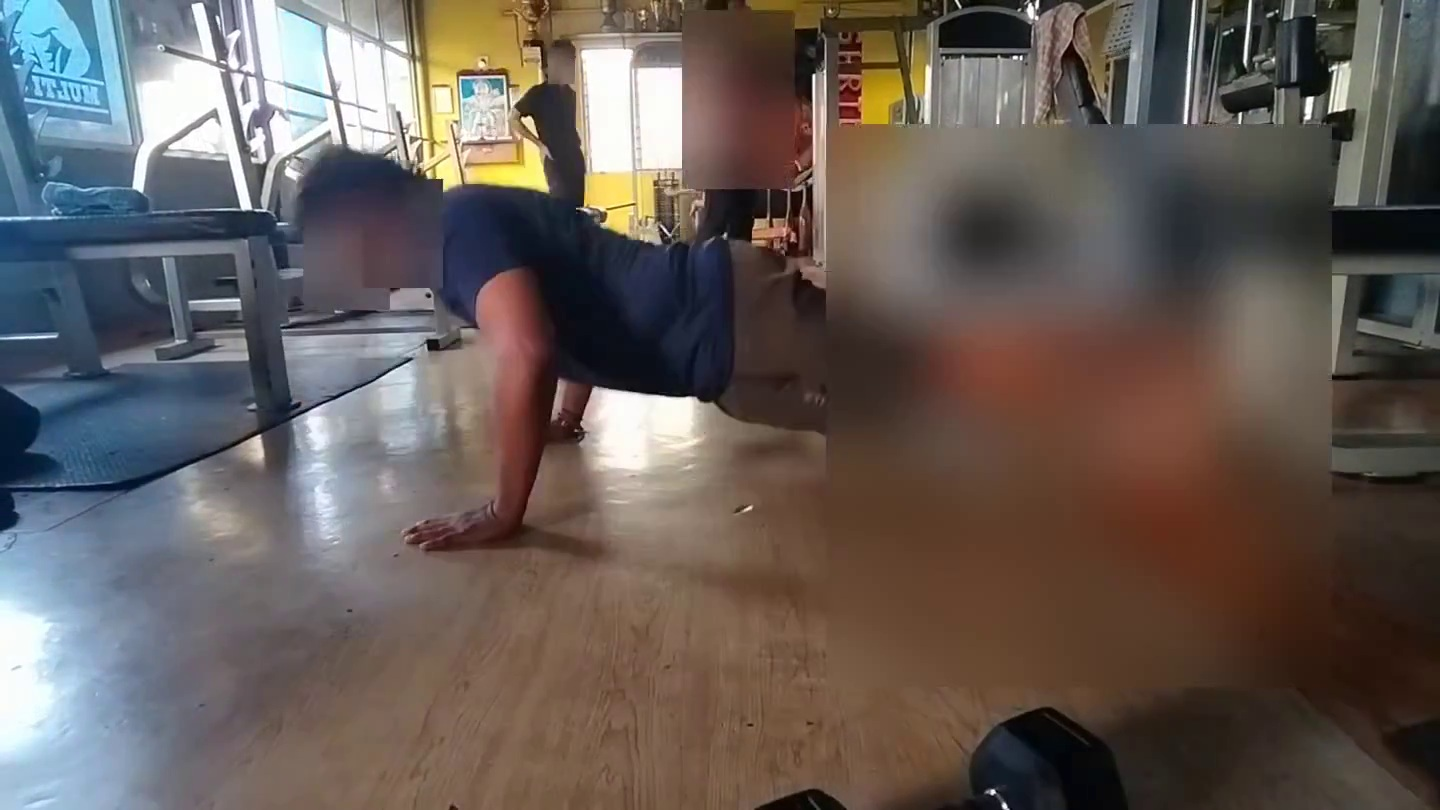push_up_correct: (395, 228, 661, 545)
